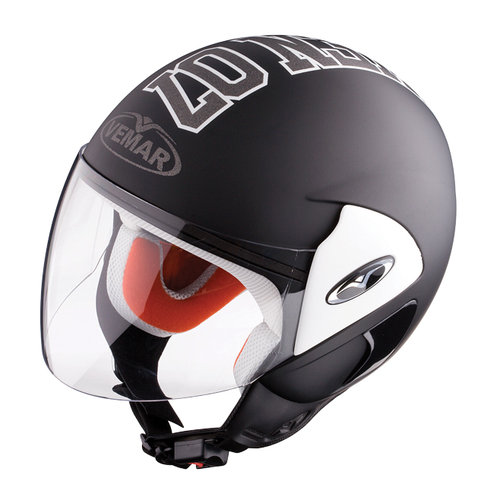helmet: (82, 36, 451, 404)
